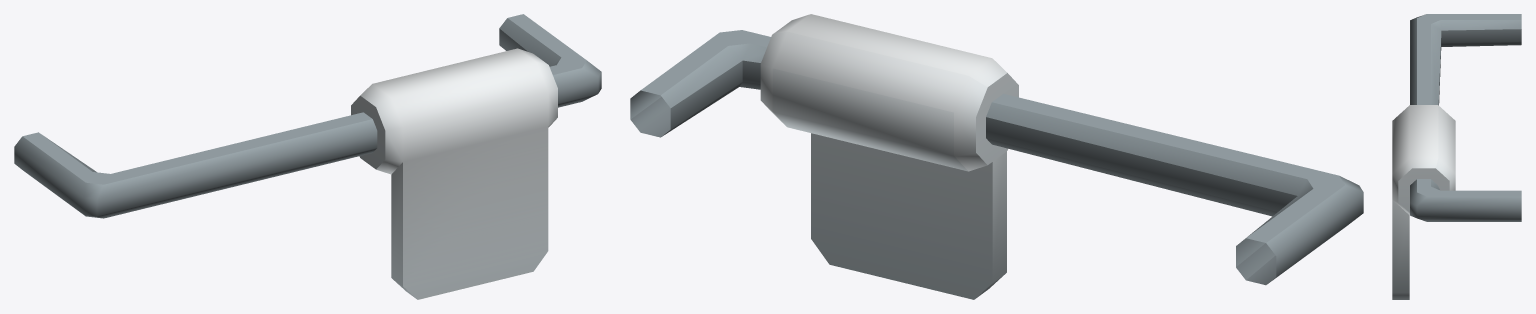
Rendered from towel.glb.
3 renders of one model, left to right at view 1: azimuth 30°, elevation 25°; view 2: azimuth 150°, elevation 25°; view 3: azimuth 270°, elevation 25°, orthographic. The views are drawn at different scales.
Visible parts, largest first — view 1: towelrail; view 2: towelrail; view 3: towelrail.
Boxes of the visible parts, <box> form: towelrail: <box>14,14,601,299</box>; towelrail: <box>630,14,1363,299</box>; towelrail: <box>1392,14,1521,299</box>.
Size of the model in its own units: 1.6 by 0.5829 by 0.4634.
1 material, 1 textured.
